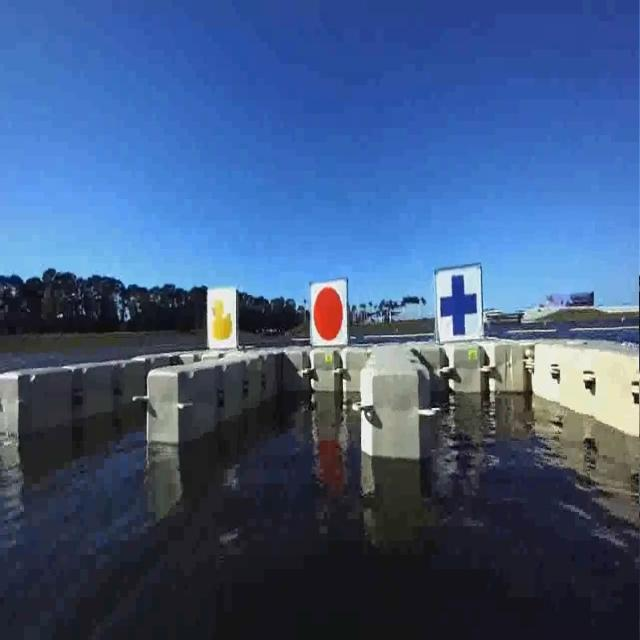blue-cross: (432, 262, 487, 340)
red-dot: (310, 282, 351, 342)
yellow-duck: (207, 286, 238, 350)
